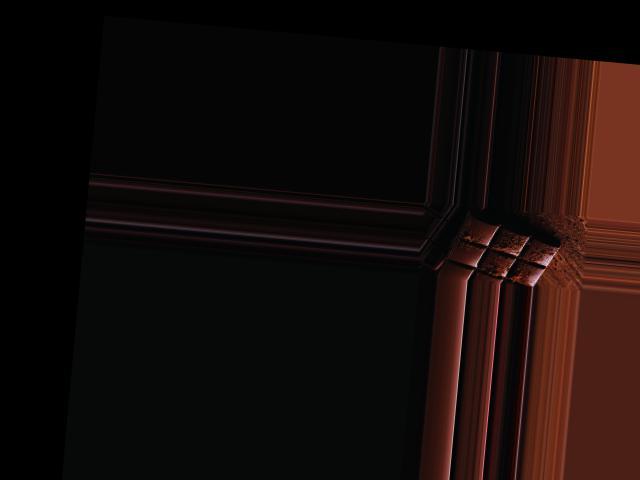chocolate: (436, 209, 568, 288)
